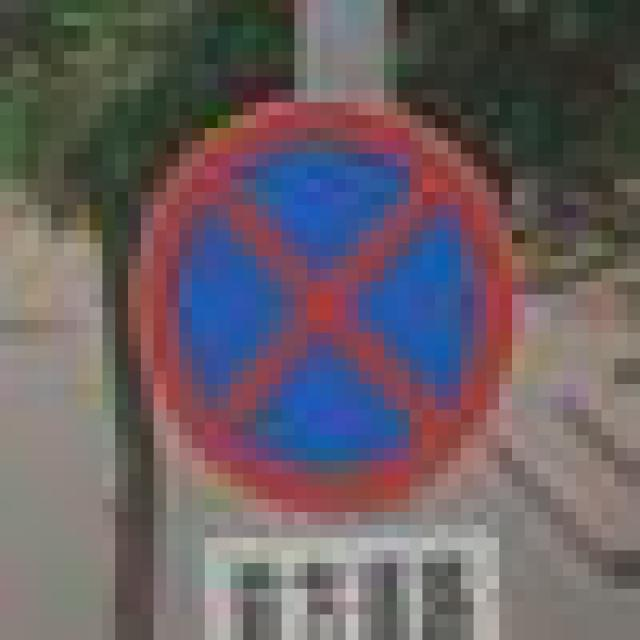no_parking: (115, 90, 512, 499)
